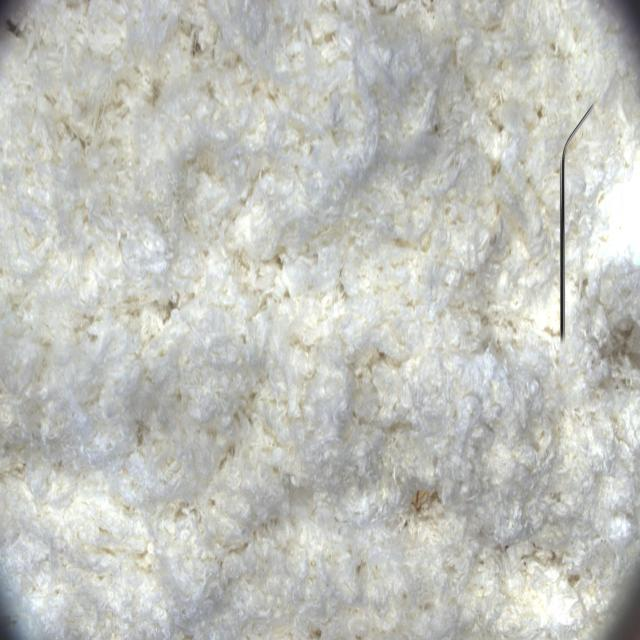dust: (520, 74, 615, 376)
